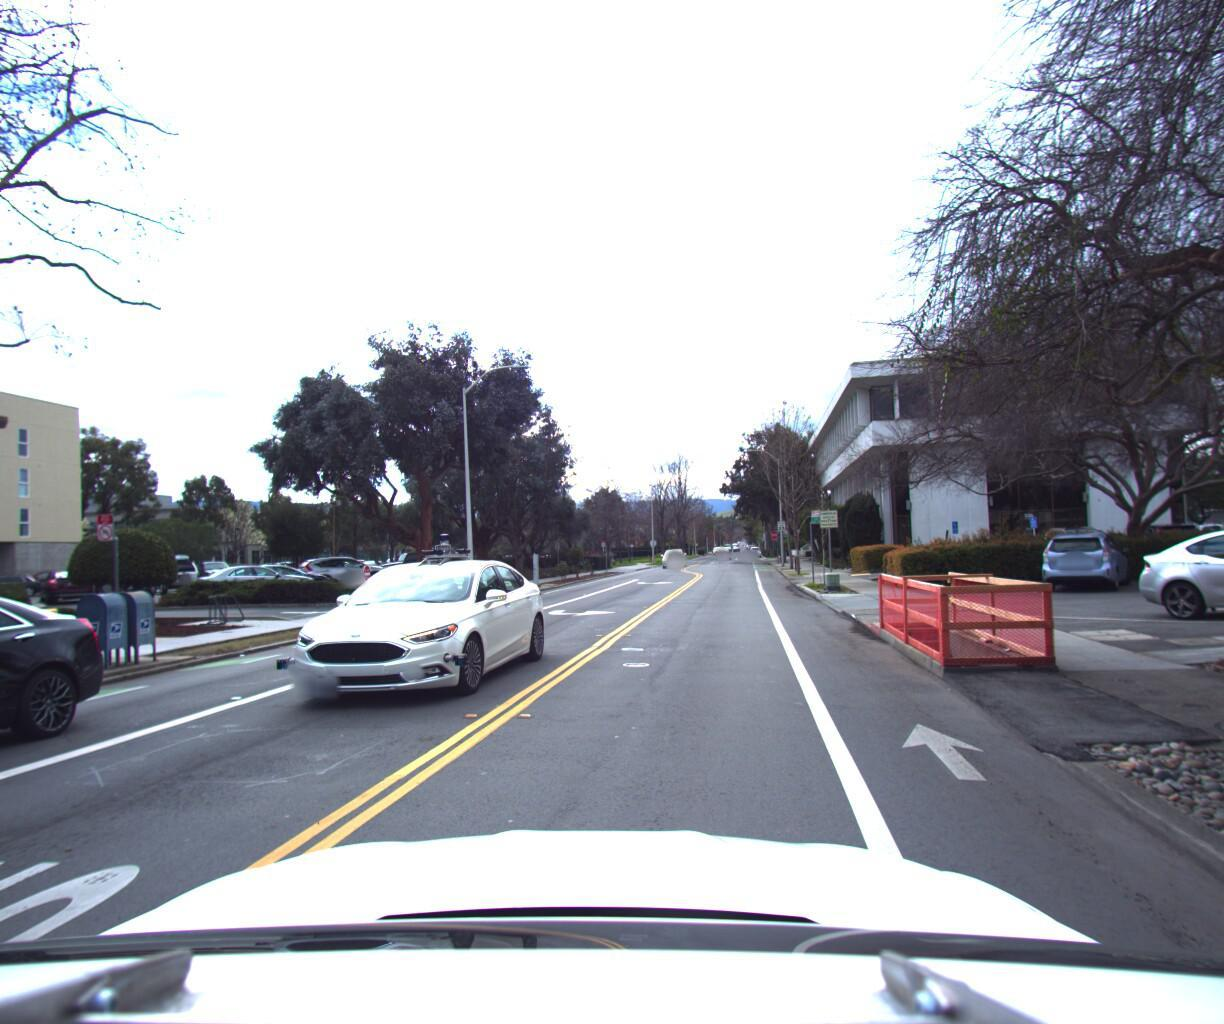car: (265, 539, 558, 709), (0, 575, 131, 904), (1113, 500, 1224, 635), (1032, 519, 1131, 587), (202, 554, 317, 594), (226, 553, 332, 590), (293, 545, 392, 584), (373, 544, 452, 574), (659, 539, 685, 559)
